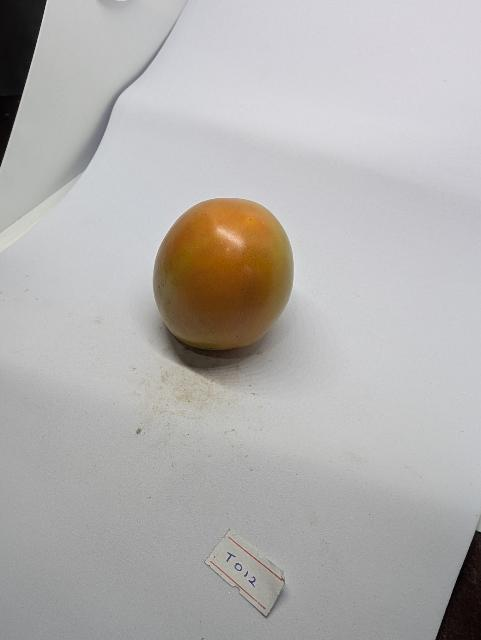turning: (147, 190, 303, 365)
